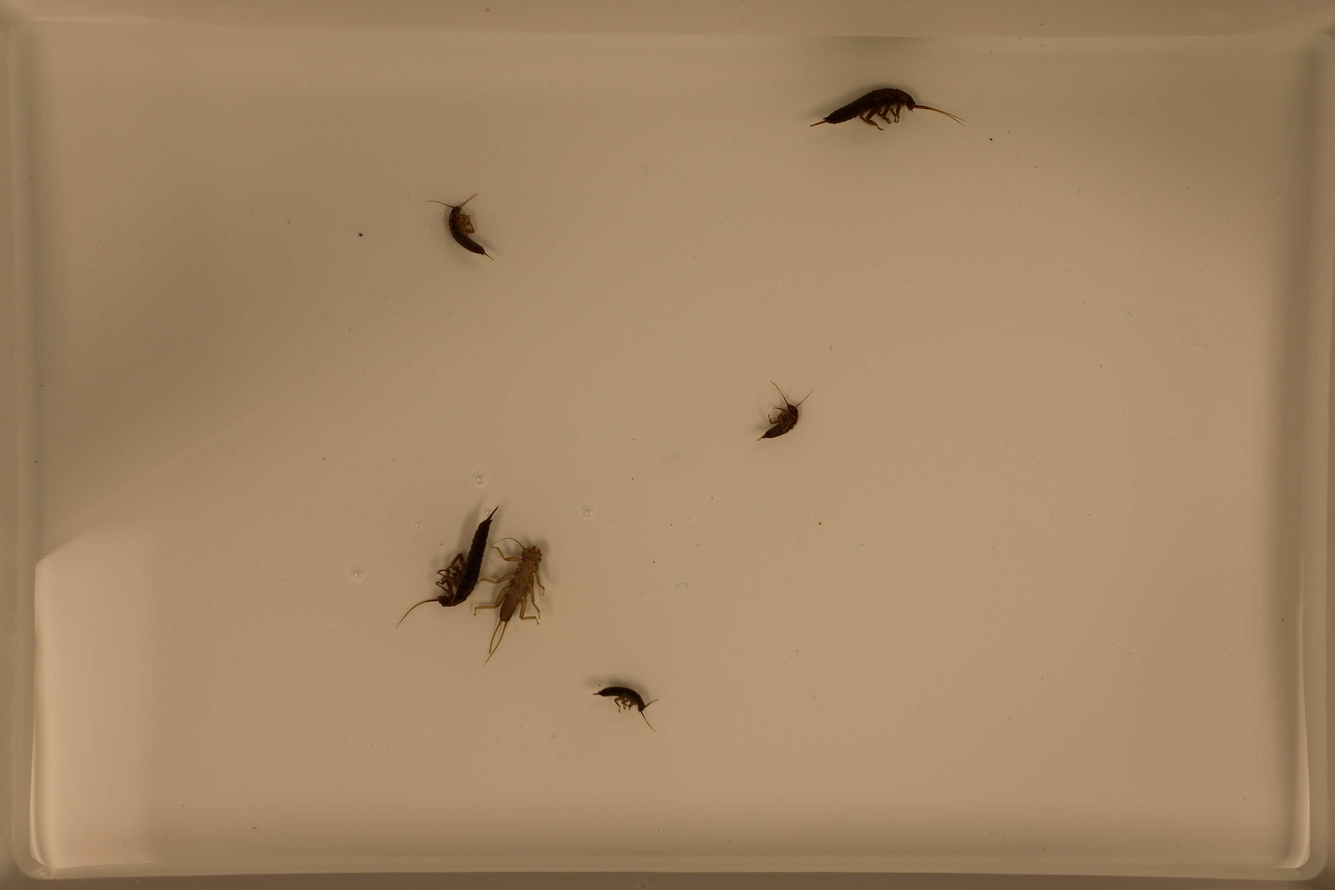Stonefly: (398, 502, 505, 632), (811, 84, 968, 150), (474, 537, 553, 662), (426, 190, 492, 259), (758, 375, 809, 444), (593, 682, 657, 731)
